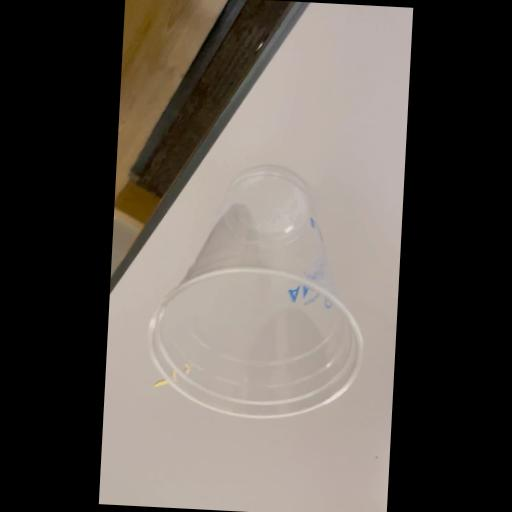lp_plastic_cup: (142, 154, 372, 424)
